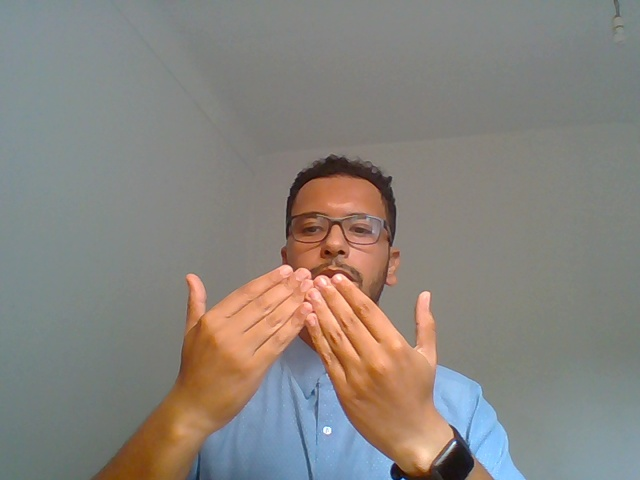thanks: (96, 255, 520, 480)
